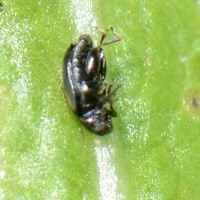insect: (63, 27, 121, 134)
